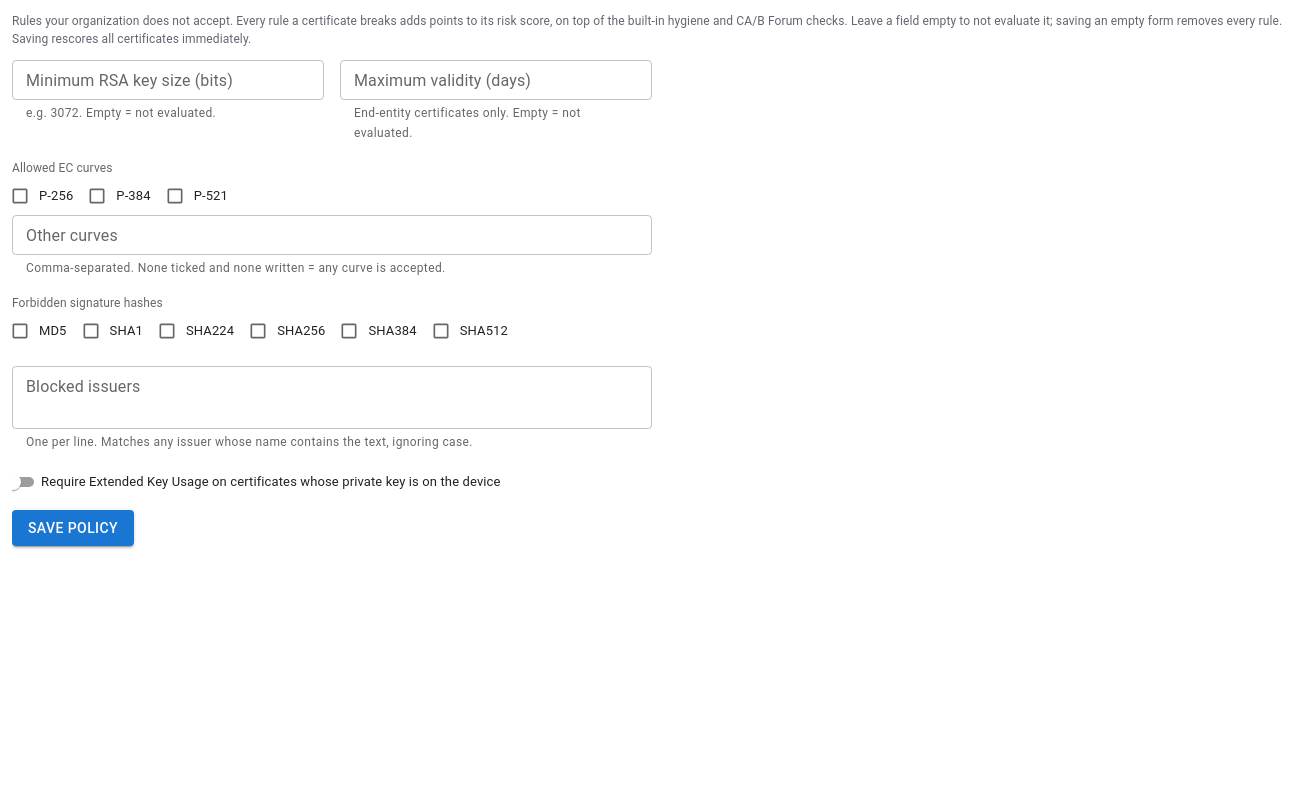
Test: CdpCryptoPolicyEditor › guardado pero sin repuntuar (columna sin migrar): aviso, no éxito
Click the button "Save policy": coordinates (73, 528) [12,510,134,546]
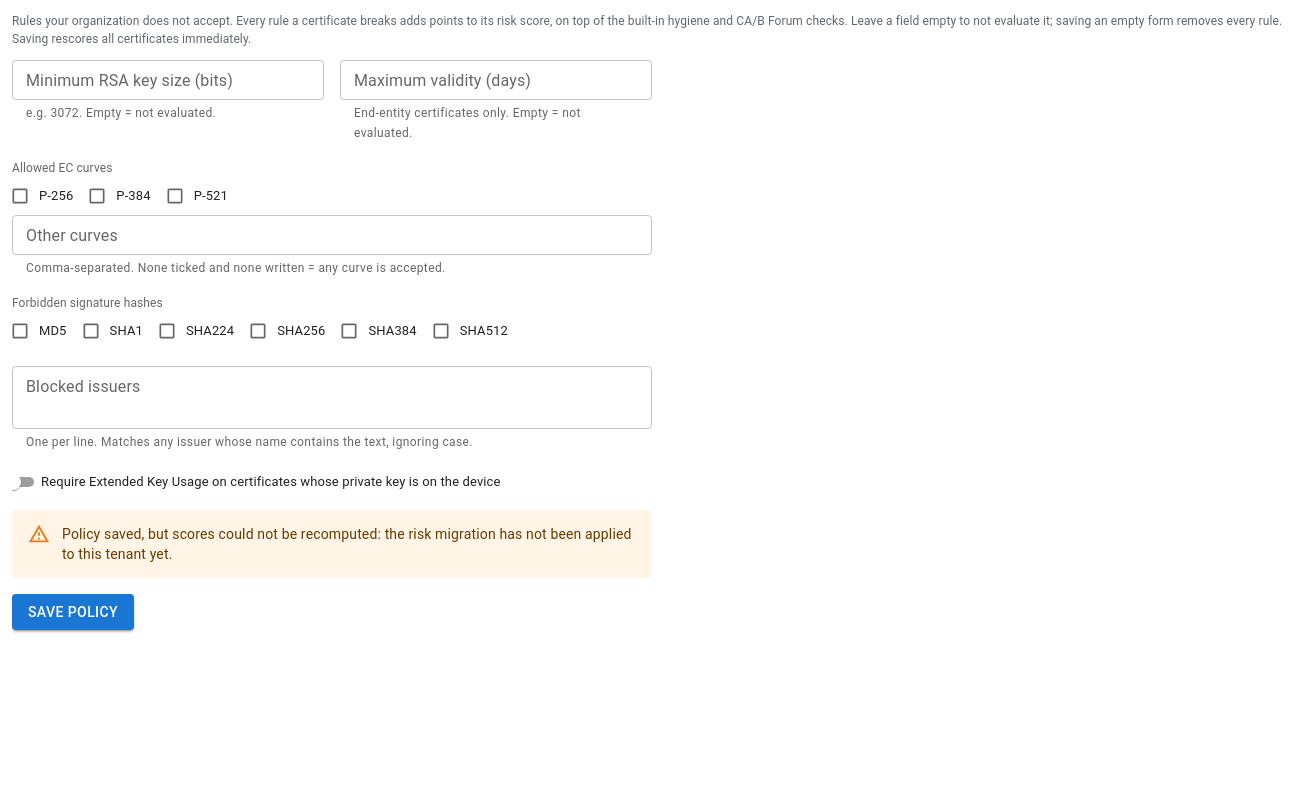
Now the text "scores could not be recomputed" is shown, box [62,526,632,562]
